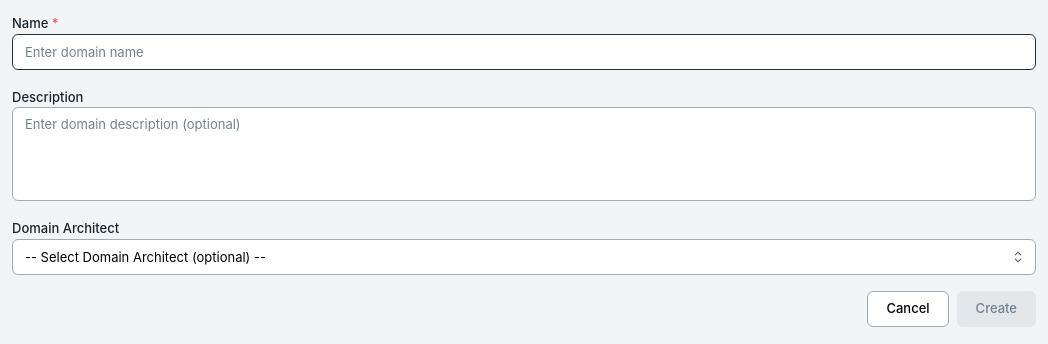
Scenario: DomainForm › Common behavior › enables submit button when name is provided
The image size is (1048, 344).
Type "Customer Experience" into the field with test id "domain-name-input" at (524, 52), box [12,34,1036,70]
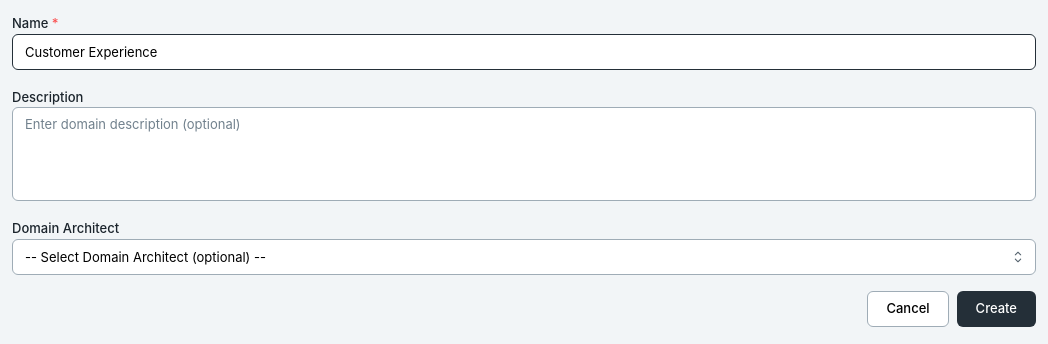
Check: the button with test id "domain-form-submit" is enabled, box [957,291,1036,327]
